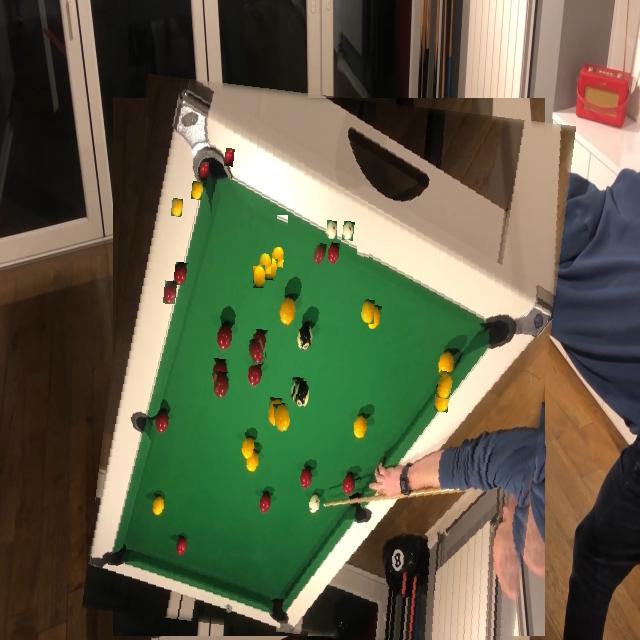Ball: (247, 338, 265, 365), (213, 372, 230, 398), (437, 371, 453, 398), (274, 404, 289, 432), (294, 381, 309, 407), (360, 300, 375, 324), (163, 281, 177, 304), (313, 243, 326, 265), (253, 266, 265, 288), (258, 254, 271, 274), (357, 243, 369, 264), (277, 216, 288, 236), (170, 199, 182, 217), (326, 220, 337, 239), (200, 162, 209, 180)
Billiard table: (97, 85, 560, 640)
